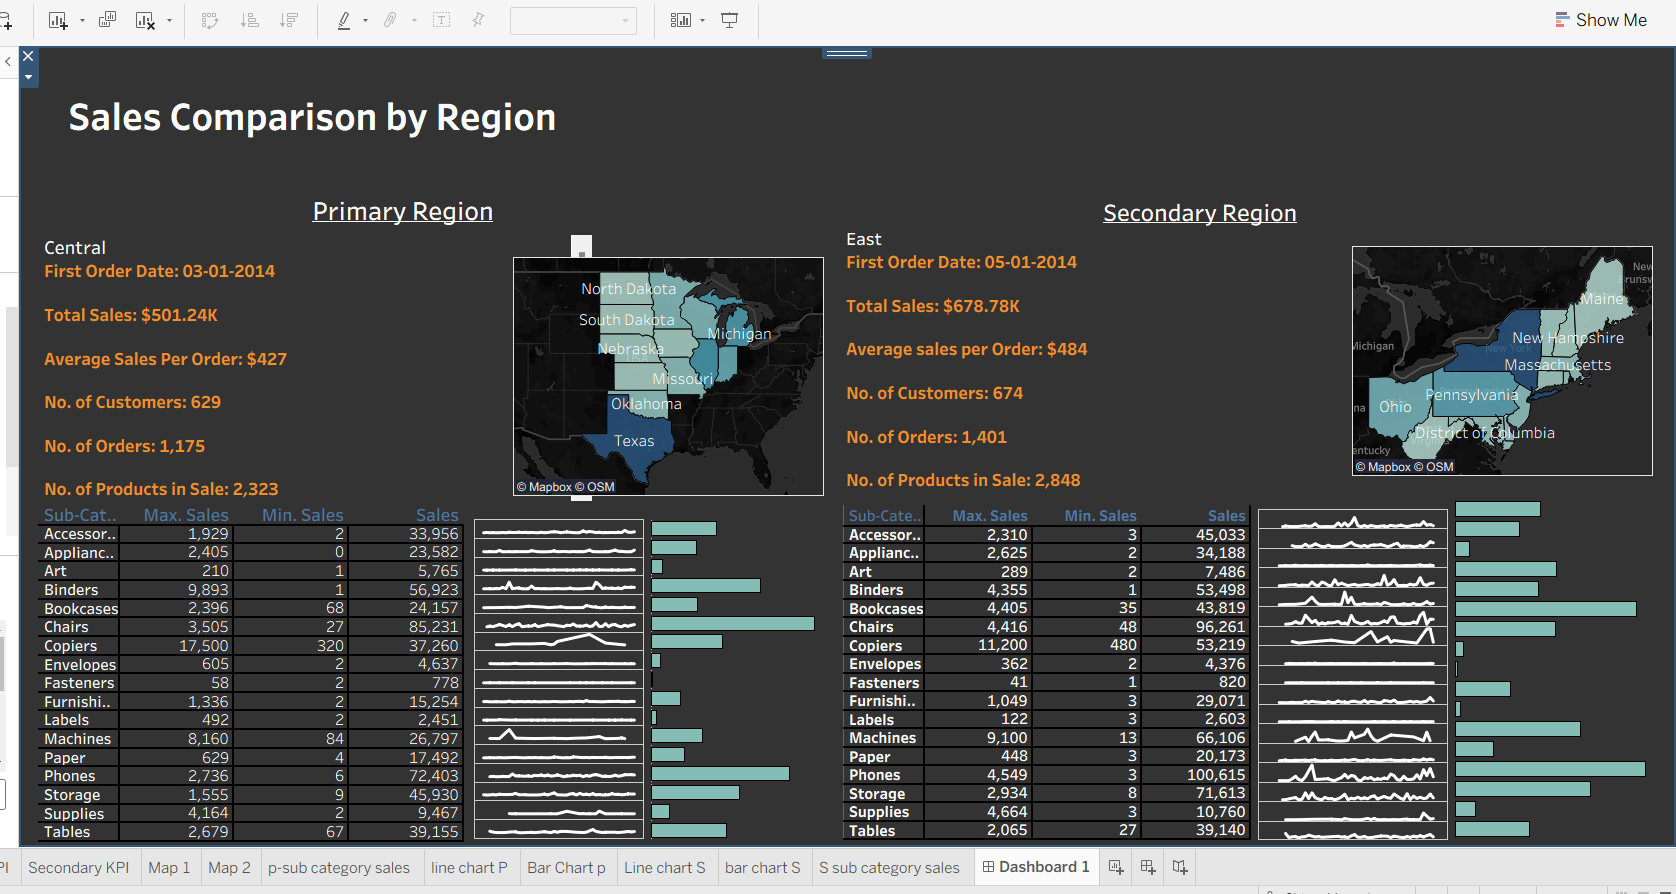

Layout of this report page (visuals, bound fields, positions):
{"tool":"tableau","page":{"name":"Dashboard 1","canvas":[1000,1000],"units":"permille","ordinal":0},"visuals":[{"type":"text","box":[27.5,41.2,566.7,90]},{"type":"text","box":[175,156.2,164.2,97.5]},{"type":"text","box":[652.5,162.5,174.2,90]},{"type":"worksheet","title":"Secondary KPI","mark":"Automatic","box":[496.7,226,354.2,333.3]},{"type":"worksheet","title":"Primary KPI","mark":"Automatic","box":[12.5,236.2,333.3,332.5]},{"type":"worksheet","title":"Map 2","mark":"Automatic","box":[804.5,249.7,181.7,287.1]},{"type":"worksheet","title":"Map 1","mark":"Automatic","box":[298.1,263.4,187.7,298.4]},{"type":"worksheet","title":"bar chart S","mark":"Automatic","rows":["Sub-Category"],"cols":["Sales"],"box":[866.6,564.3,120.1,425.7]},{"type":"worksheet","title":"p-sub category sales","mark":"Automatic","rows":["Sub-Category"],"box":[10.9,570.5,257.7,423.2]},{"type":"worksheet","title":"S sub category sales","mark":"Automatic","rows":["Sub-Category"],"box":[496.7,571.8,246.8,419.5]},{"type":"worksheet","title":"Line chart S","mark":"Automatic","rows":["Sub-Category","Sales"],"cols":["Order Date"],"box":[747.7,578,114.7,414.5]},{"type":"worksheet","title":"line chart P","mark":"Line","rows":["Sub-Category","Sales"],"cols":["Order Date"],"box":[274.6,590.5,102.6,399.5]},{"type":"worksheet","title":"Bar Chart p","mark":"Automatic","rows":["Sub-Category"],"cols":["Sales"],"box":[381.4,590.5,103.2,399.5]}]}

Visuals, with their boxes on the dashboard's canvas, which has no fixed pixel size, in thousandths of its width and height (x1, y1, x2, y2). These are canvas units, not pixel positions in the 1676x894 screenshot, which may show the page scaled, cropped or inside an application window:
text: region(28, 41, 594, 131)
text: region(175, 156, 339, 254)
text: region(652, 162, 827, 252)
"Secondary KPI" worksheet: region(497, 226, 851, 559)
"Primary KPI" worksheet: region(12, 236, 346, 569)
"Map 2" worksheet: region(804, 250, 986, 537)
"Map 1" worksheet: region(298, 263, 486, 562)
"bar chart S" worksheet: region(867, 564, 987, 990)
"p-sub category sales" worksheet: region(11, 570, 269, 994)
"S sub category sales" worksheet: region(497, 572, 744, 991)
"Line chart S" worksheet: region(748, 578, 862, 992)
"line chart P" worksheet (Line marks): region(275, 590, 377, 990)
"Bar Chart p" worksheet: region(381, 590, 485, 990)
